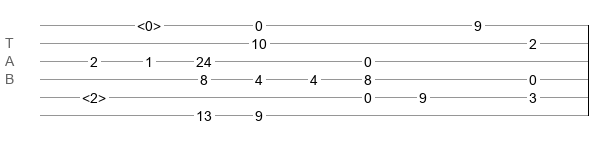0: (255, 18, 263, 28), (364, 54, 372, 64), (364, 90, 372, 100), (529, 72, 537, 82)
1: (145, 54, 153, 64)
10: (251, 36, 267, 46)
13: (196, 108, 212, 118)
2: (90, 54, 98, 64), (529, 36, 537, 46)
24: (196, 54, 212, 64)
3: (529, 90, 537, 100)
4: (255, 72, 263, 82), (310, 72, 318, 82)
8: (200, 72, 208, 82), (364, 72, 372, 82)
9: (255, 108, 263, 118), (419, 90, 427, 100), (474, 18, 482, 28)
harmonic: (82, 90, 106, 100), (137, 18, 161, 28)
